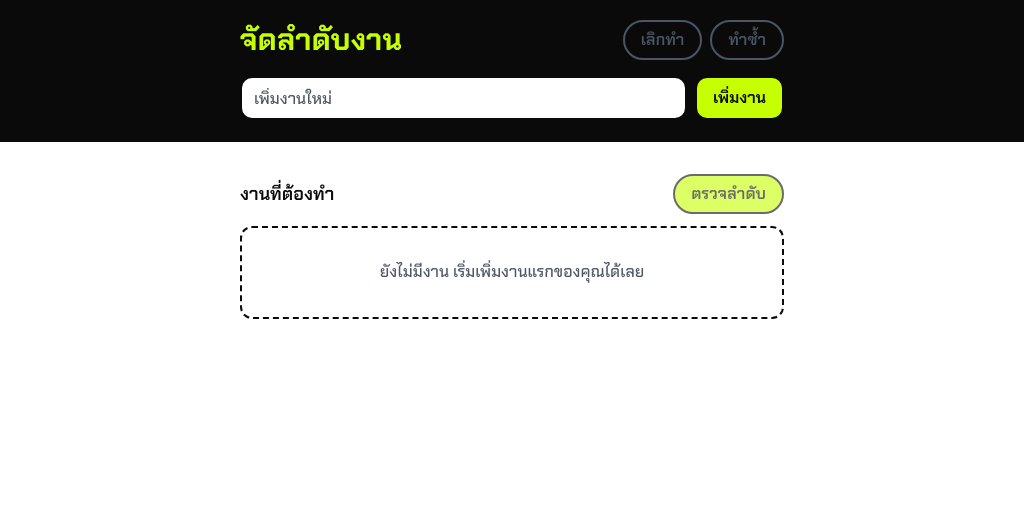
empty states and sections › P2-23 finishing every task shows "all done", not "add your first task"
Type "A" into the field labelled "เพิ่มงานใหม่".
click(464, 98); type("A")  # box [240,76,687,120]
Then press Enter
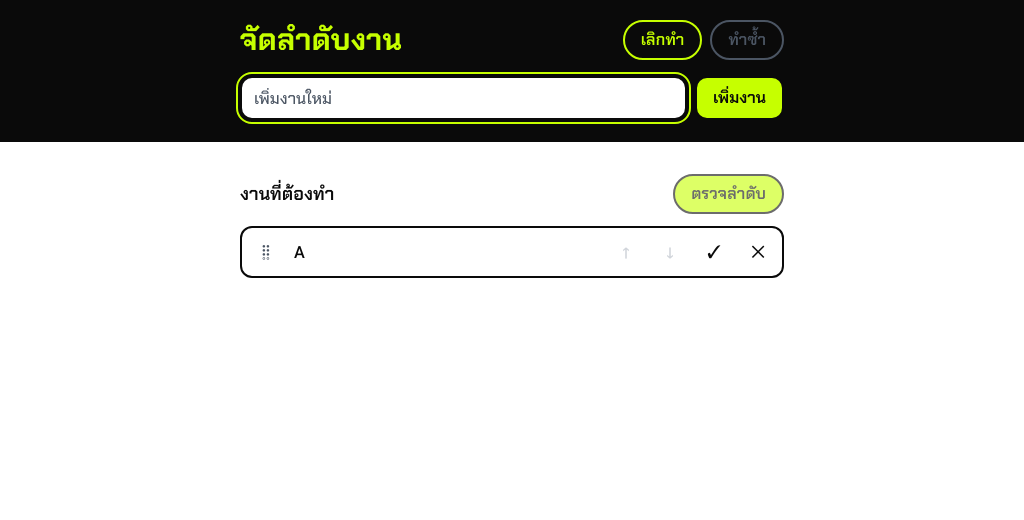
Type "B" into the field labelled "เพิ่มงานใหม่".
click(464, 98); type("B")  # box [240,76,687,120]
Then press Enter
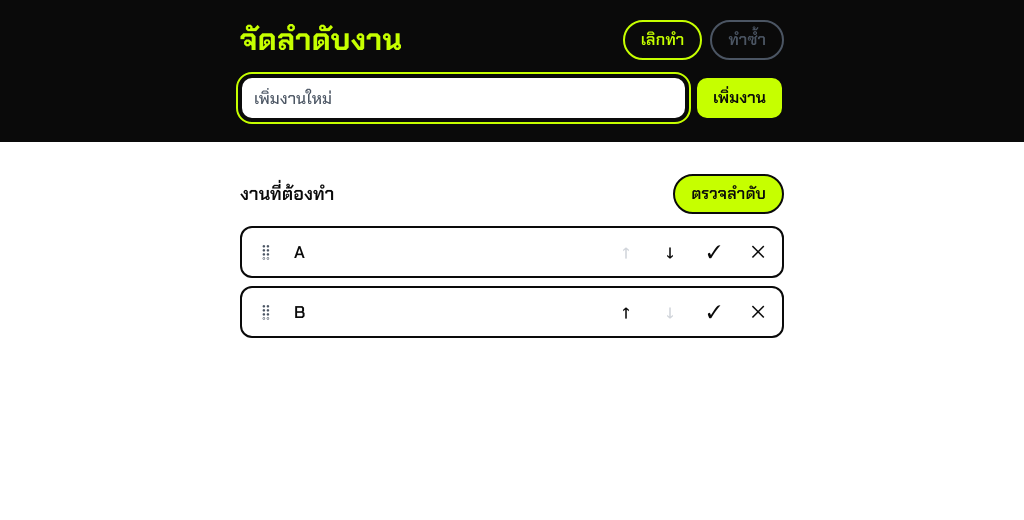
Click the 1st button "✓".
click(714, 252)  # box [694,232,734,272]
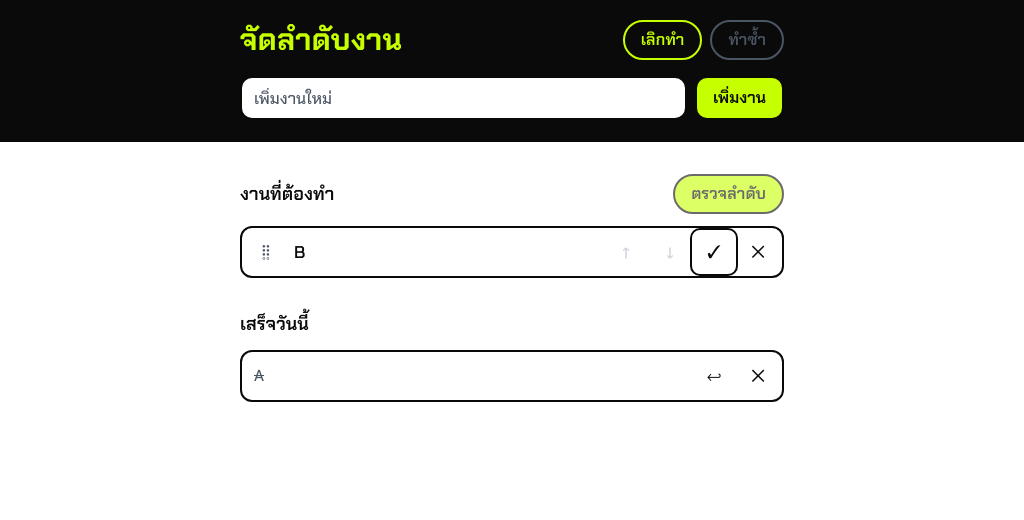
Click the button "✓".
click(714, 252)  # box [694,232,734,272]
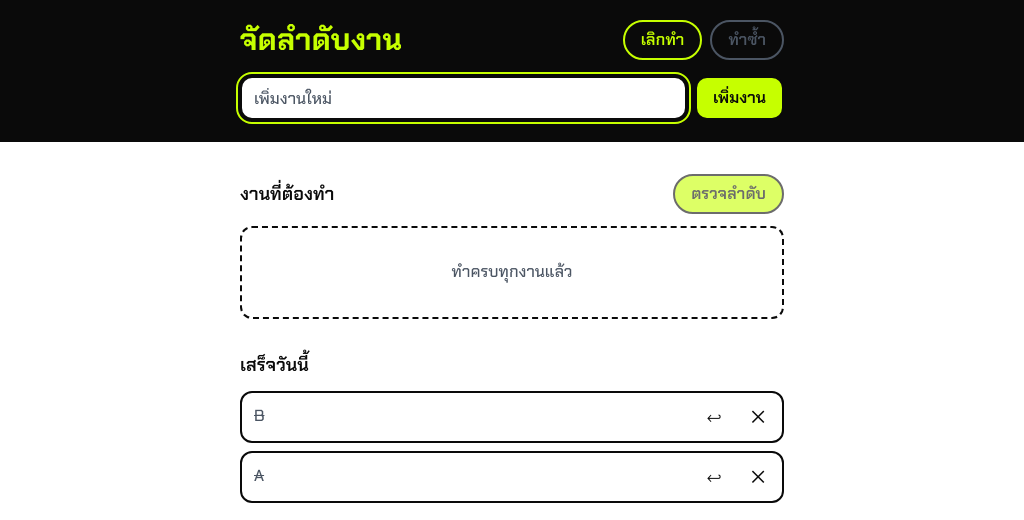
Check: the text "ยังไม่มีงาน เริ่มเพิ่มงานแรกของคุณได้เลย" is not shown
Check: the text "ทำครบทุกงานแล้ว" is shown, box [240,226,784,319]
